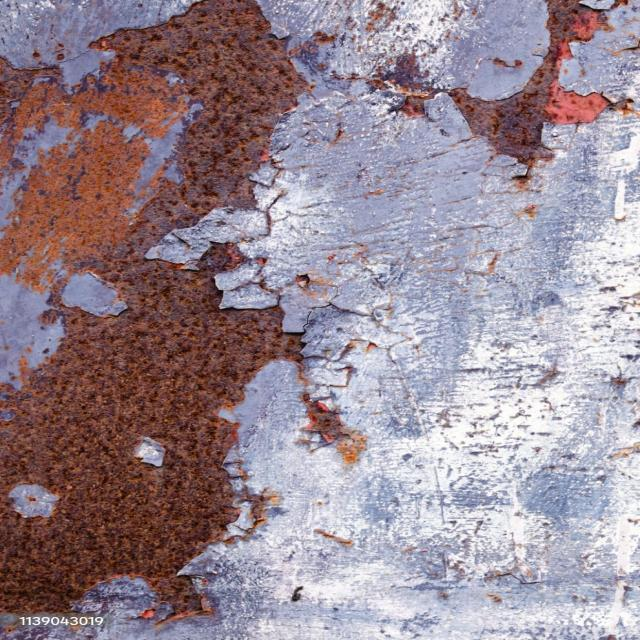Pitting Corrosion: (0, 0, 307, 613), (451, 0, 579, 165)
